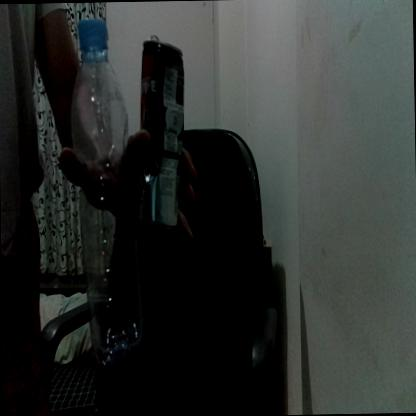alumunium_can: (138, 30, 188, 239)
plastic_bottles: (74, 15, 144, 361)
